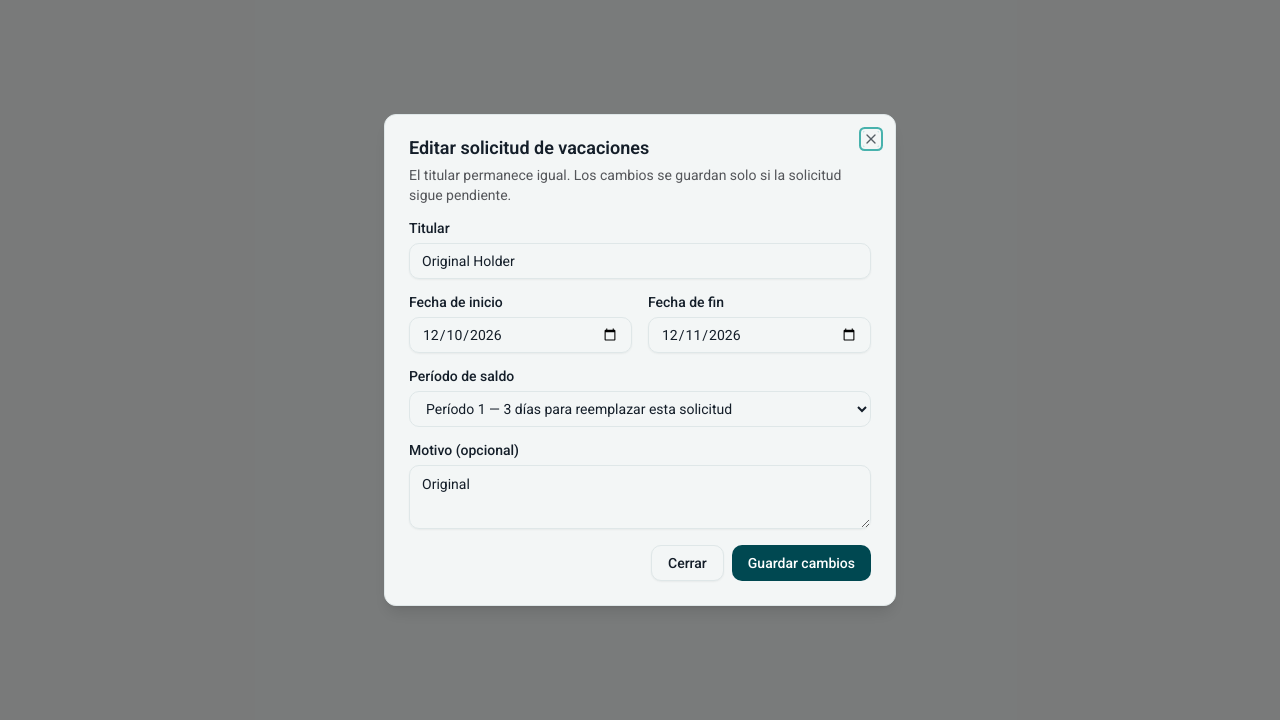
it: pending vacation edit dialog › rejects an invalid range locally
In the date field labelled "Fecha de fin": (760, 335) [648,317,871,353], type "2026-12-09"
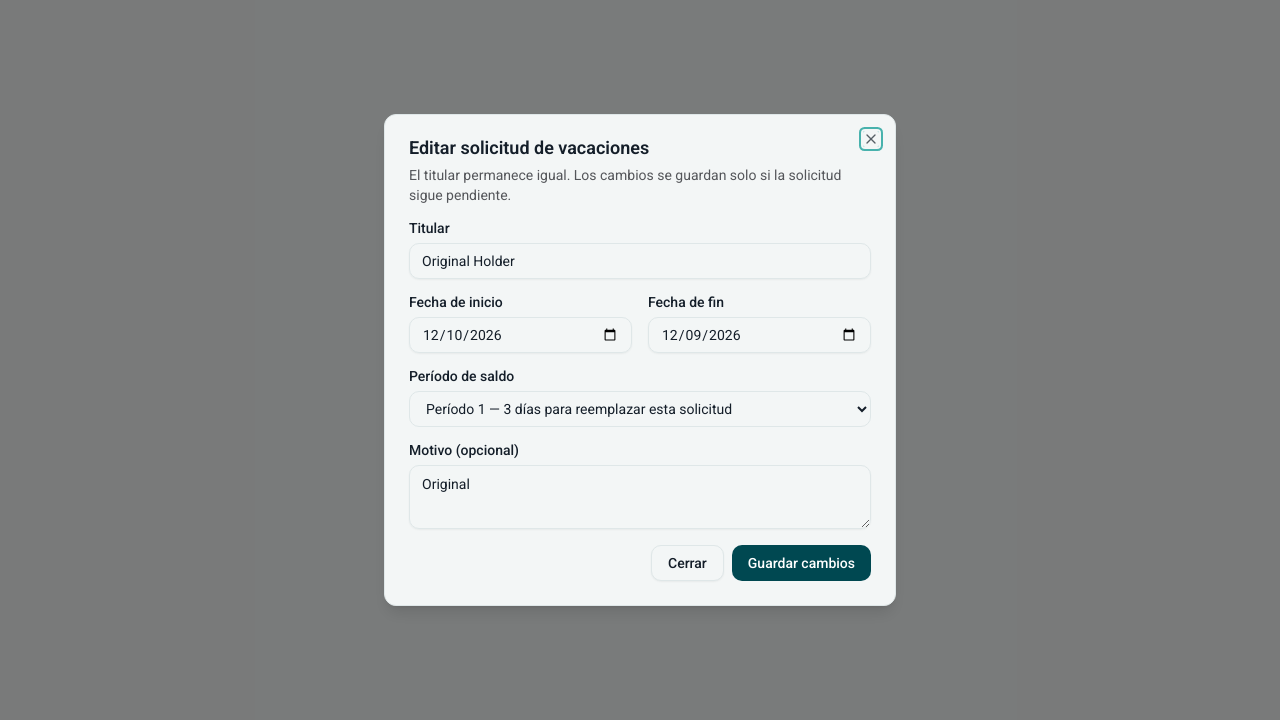
Click the button "Guardar cambios": (801, 563) [732,545,871,581]
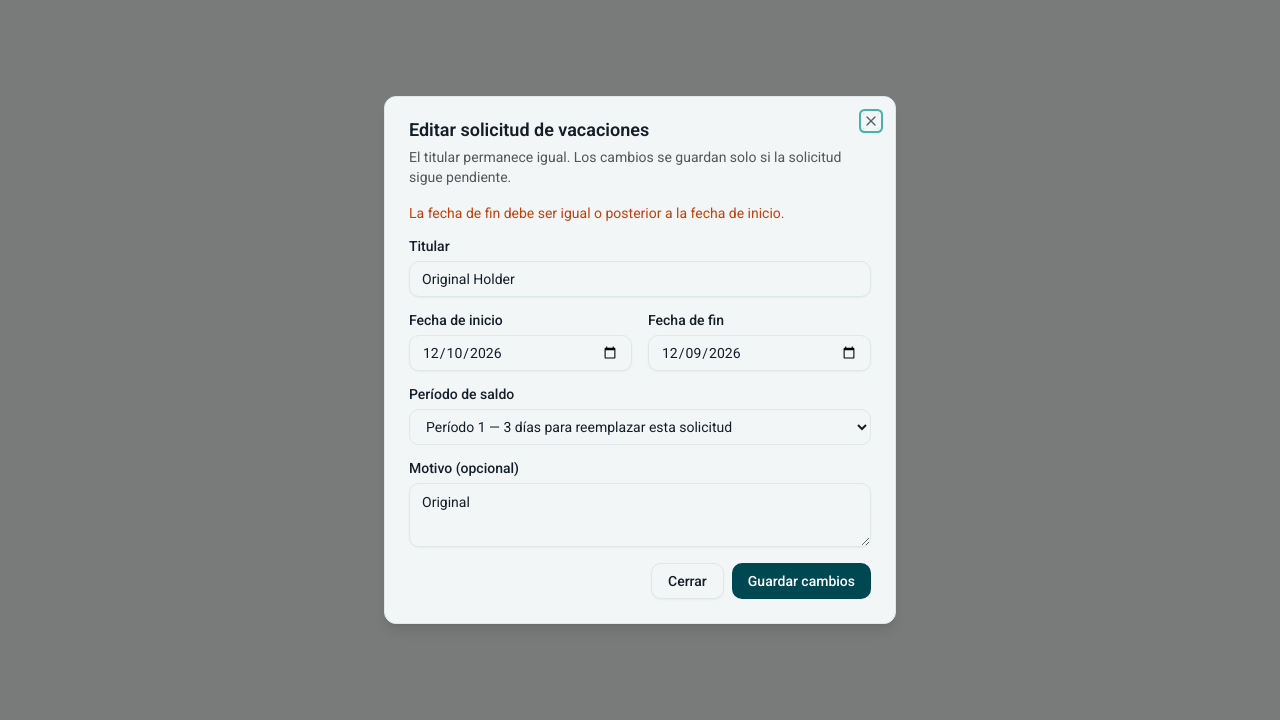
Expected: the message shows "posterior", [409,205,784,221]
